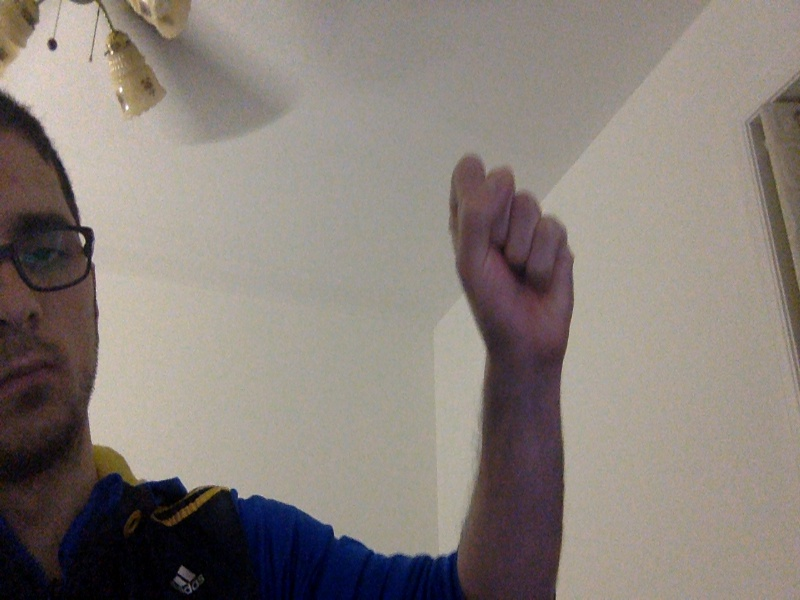0-hand: (447, 153, 578, 346)
